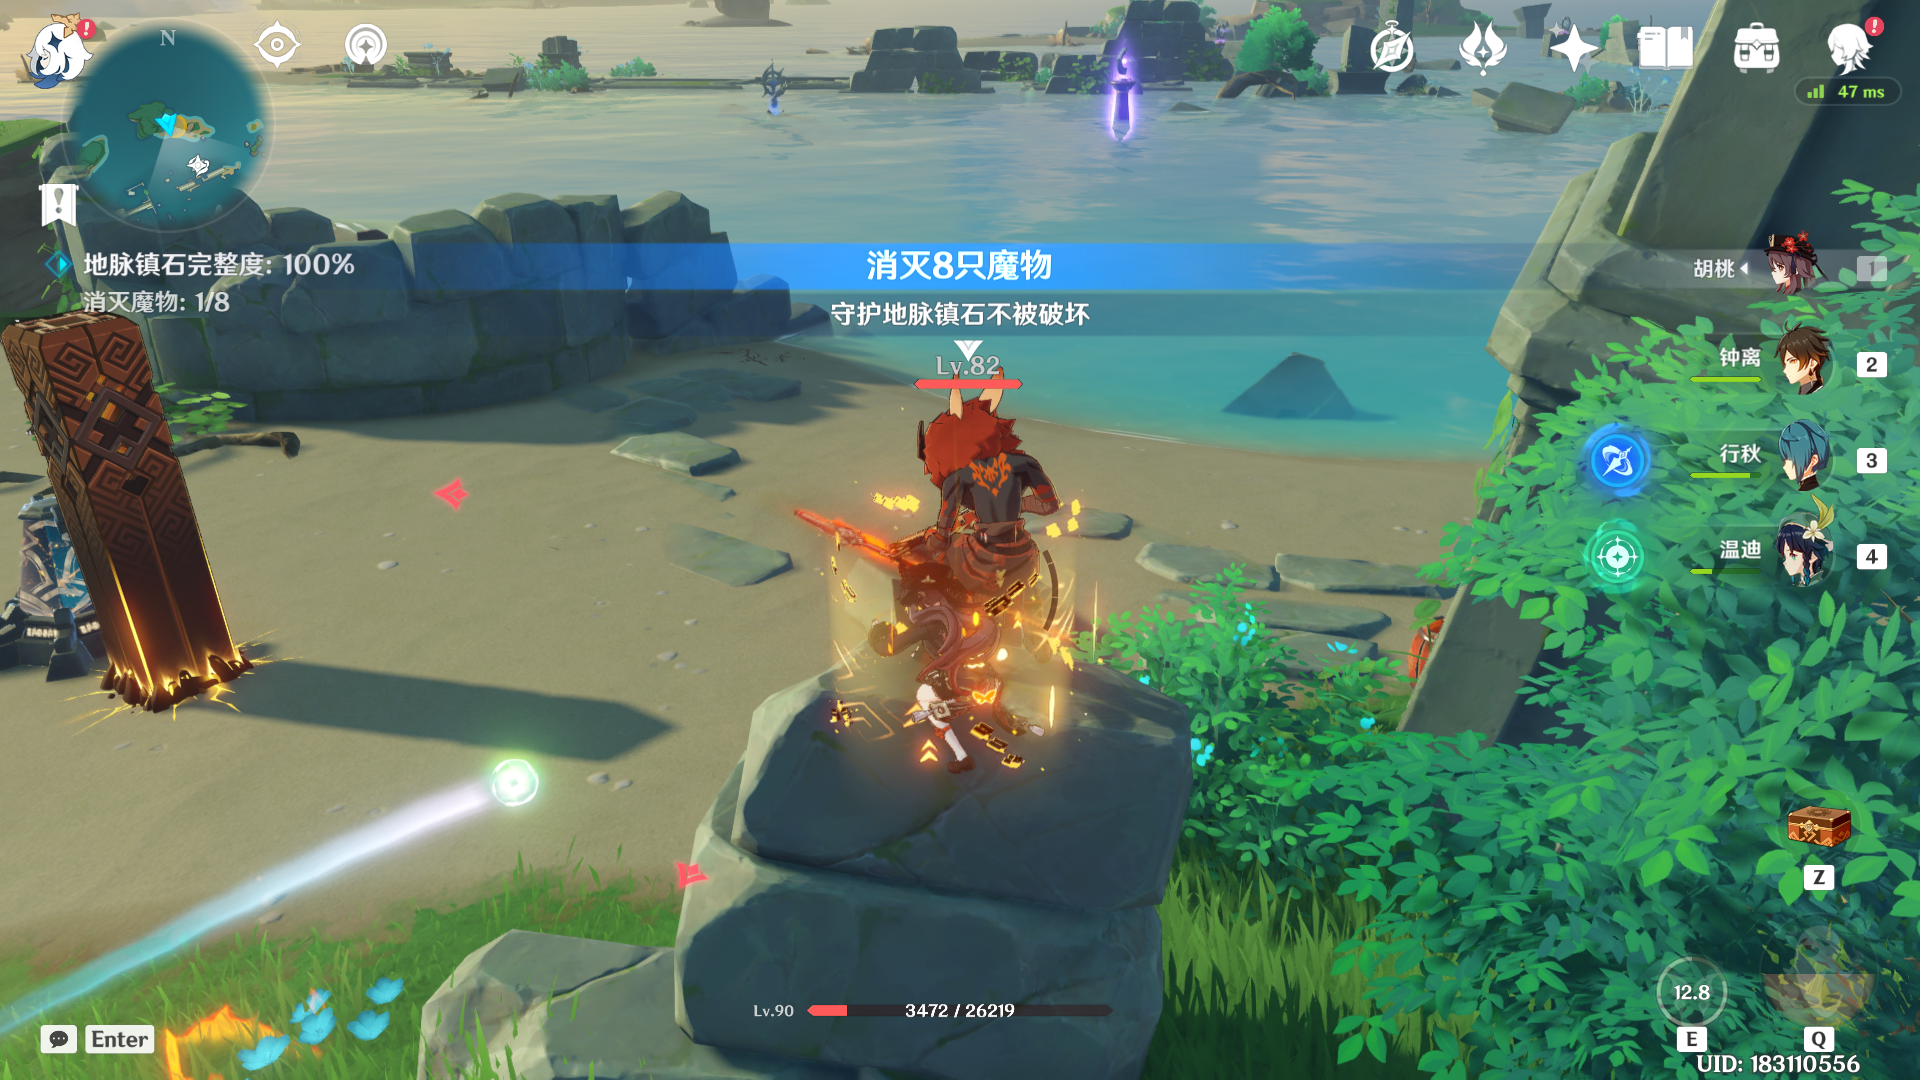hili: (800, 363, 1077, 680)
